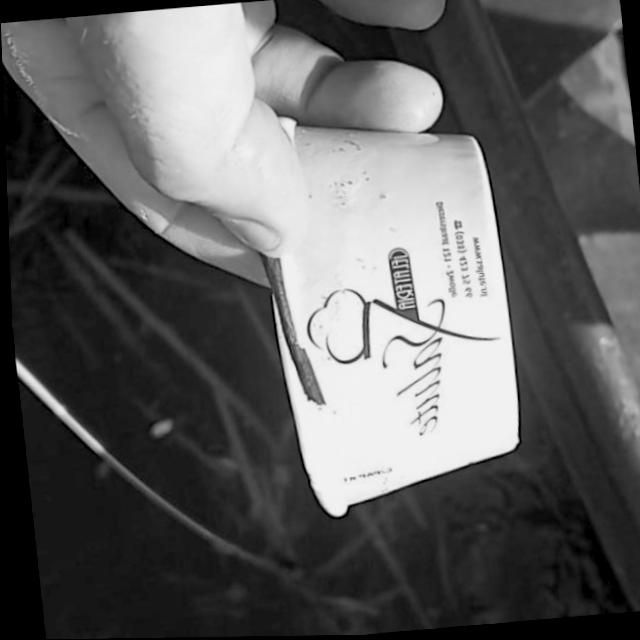Paper: (245, 97, 529, 523)
